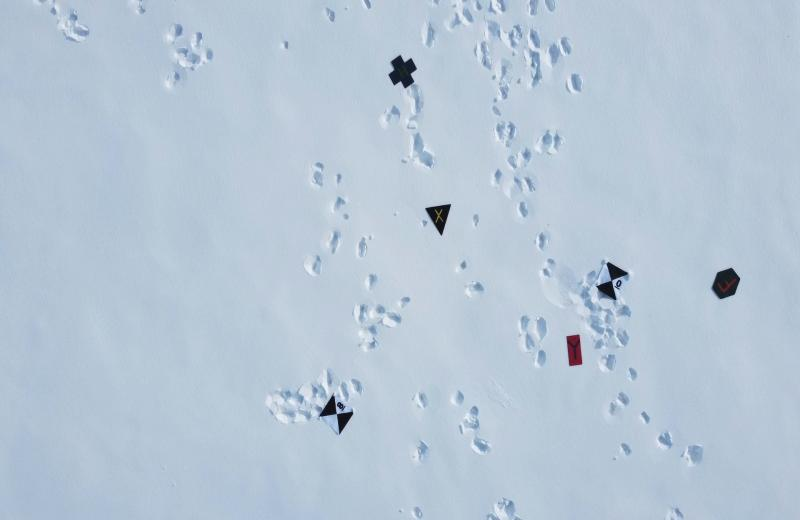Cross: (387, 54, 418, 92)
Hexagon: (710, 266, 742, 302)
Rectangle: (560, 332, 585, 370)
Triangle: (423, 202, 453, 238)
